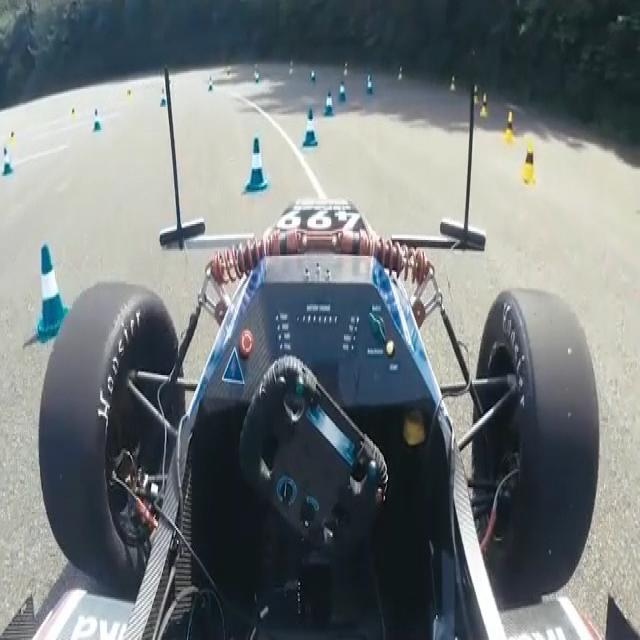blue_cone: (36, 244, 74, 345), (246, 138, 270, 194), (303, 108, 319, 150), (2, 149, 14, 177), (323, 91, 334, 118), (92, 108, 103, 133), (338, 79, 348, 103)
yellow_cone: (518, 138, 536, 185), (503, 111, 515, 143), (479, 93, 489, 118)
